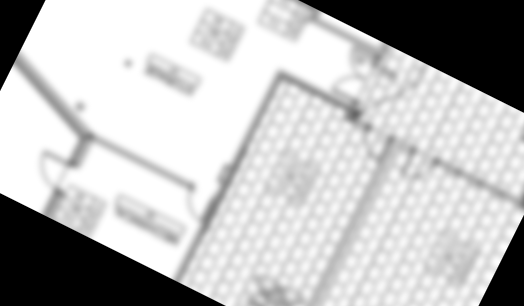door: (28, 149, 72, 191), (177, 184, 217, 224), (399, 148, 437, 187), (355, 126, 393, 164)
double door: (329, 44, 380, 104)
wall: (171, 65, 287, 282), (0, 43, 114, 139), (91, 133, 194, 191), (274, 66, 359, 115), (305, 13, 389, 61), (72, 130, 97, 170), (46, 188, 69, 220)
